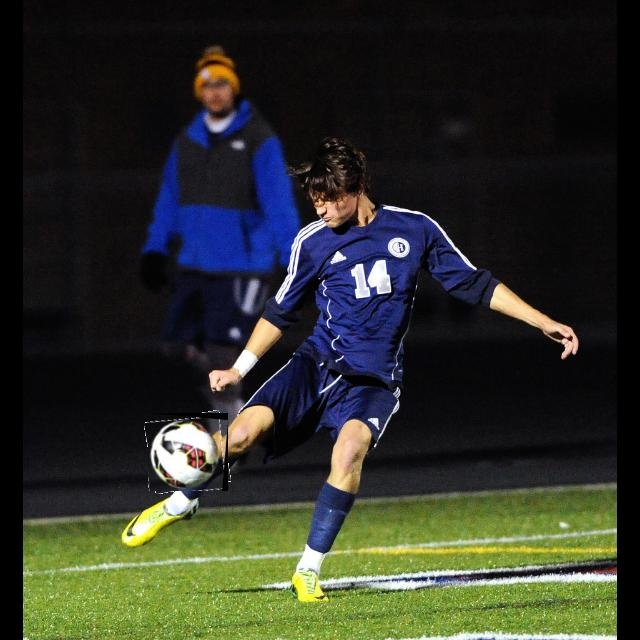Football: (148, 413, 228, 491)
